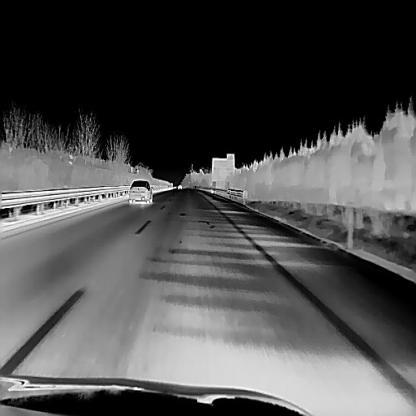car: (128, 179, 152, 204)
